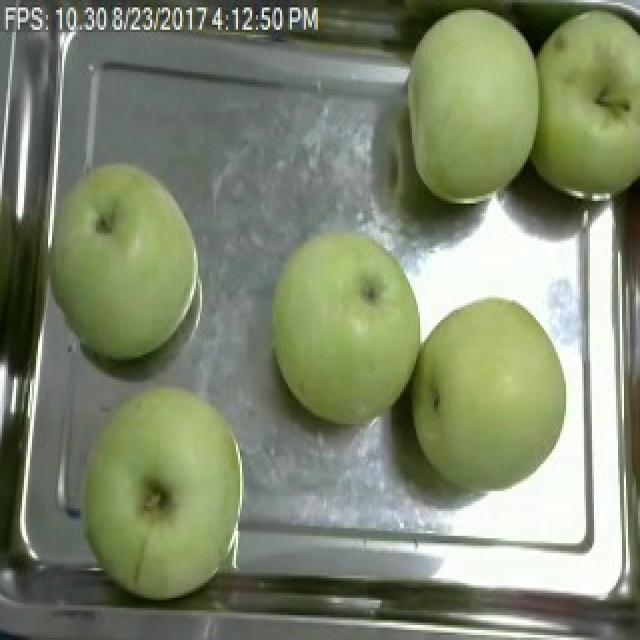50-_ripeness: (89, 377, 254, 603), (52, 162, 220, 378), (387, 8, 556, 208), (260, 215, 419, 425), (422, 294, 570, 513), (535, 10, 640, 203)
